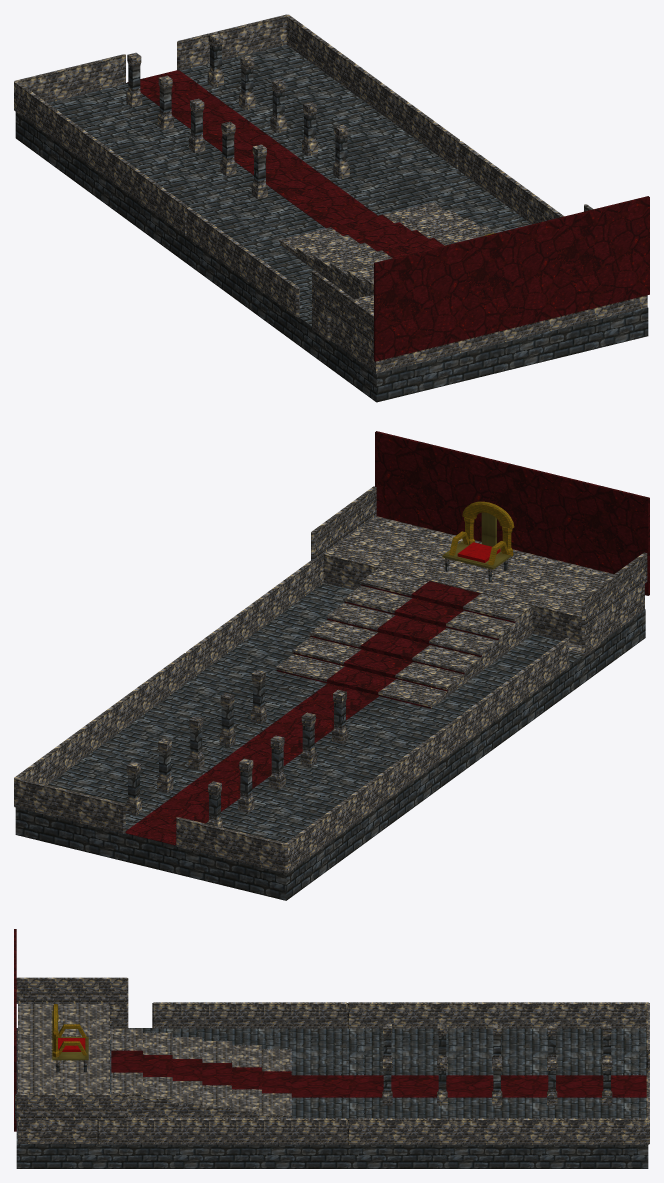
The model's file is throne-room.glb.
3 renders of one model, top to bottom at view 1: azimuth 30°, elevation 25°; view 2: azimuth 150°, elevation 25°; view 3: azimuth 270°, elevation 25°, orthographic. The views are drawn at different scales.
Parts seen in each view (by area): view 1: floor (×15), porch_floorCenter (×3), stairs (×3), column (×10), wall (×7), wall_corner (×2); view 2: floor (×13), porch_floorCenter (×3), stairs (×3), column (×9), wall (×6), wall_corner (×2); view 3: floor (×32), wall (×45), stairs (×3), porch_floorCenter (×4), column (×7), wall_corner (×2), gear_bars.
Part boxes in pixels (box(x1,y1,x2,y2)): floor (×15): box(62, 62, 648, 402); porch_floorCenter (×3): box(127, 70, 649, 361); stairs (×3): box(279, 202, 495, 298); column (×10): box(126, 32, 349, 198); wall (×7): box(41, 21, 459, 317); wall_corner (×2): box(14, 14, 304, 121); floor (×13): box(15, 516, 644, 900); porch_floorCenter (×3): box(125, 431, 649, 845); stairs (×3): box(275, 568, 532, 708); column (×9): box(125, 670, 348, 815); wall (×6): box(41, 784, 259, 866); wall_corner (×2): box(14, 766, 303, 873); floor (×32): box(16, 1004, 648, 1168); wall (×45): box(15, 977, 621, 1144); stairs (×3): box(111, 1028, 291, 1118); porch_floorCenter (×4): box(14, 929, 646, 1131); column (×7): box(382, 1024, 612, 1105); wall_corner (×2): box(619, 1002, 649, 1144); gear_bars: box(58, 1024, 86, 1055).
Bounding box in the file's own units: 10.16 × 4.93 × 23.16.
264 materials, 264 textured.
